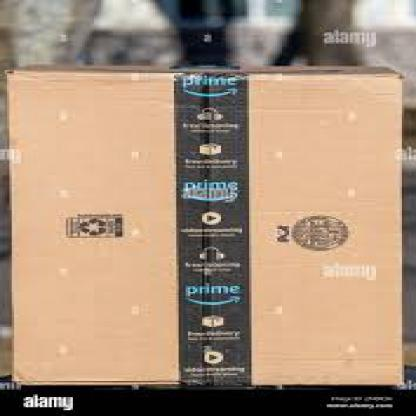package: (8, 63, 408, 387)
